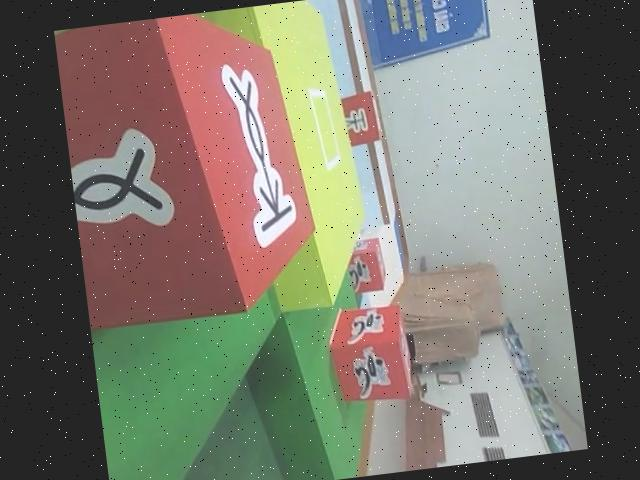R1: (320, 298, 417, 409), (339, 236, 388, 296)
R2 Real: (53, 2, 327, 341)
